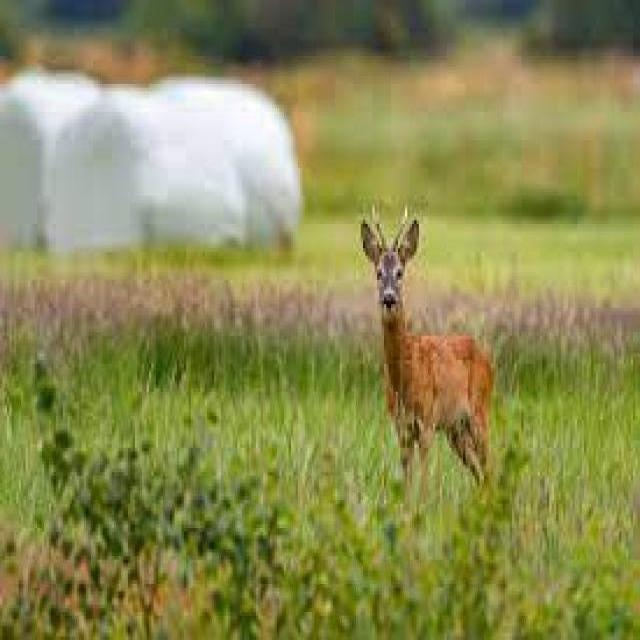deer: (352, 193, 506, 508)
